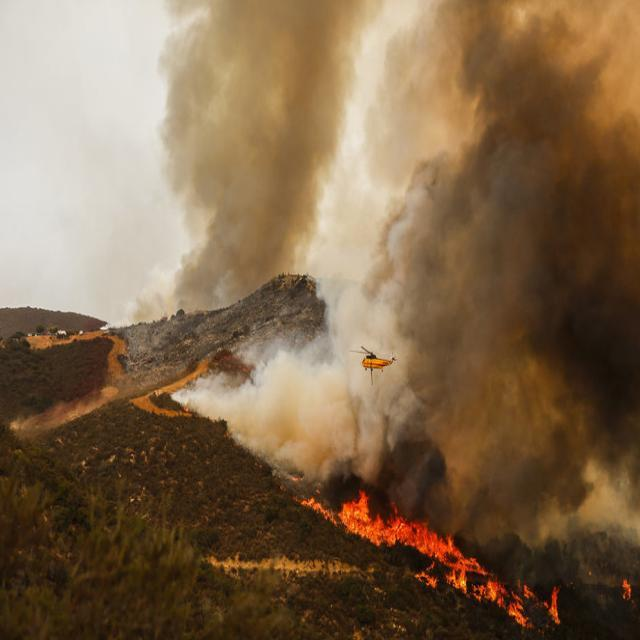Fire: (285, 464, 576, 640)
Smoke: (394, 233, 639, 507), (150, 0, 392, 238), (395, 3, 639, 229), (165, 244, 392, 476)
